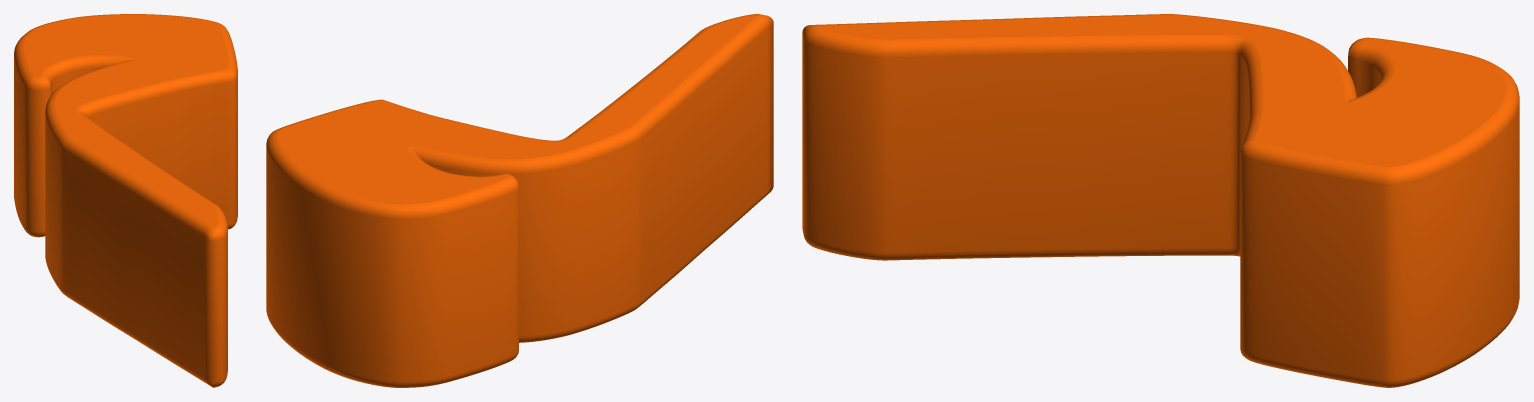
Rendered from 24 mim.fbx.
3 renders of one model, left to right at view 1: azimuth 30°, elevation 25°; view 2: azimuth 150°, elevation 25°; view 3: azimuth 270°, elevation 25°, orthographic. The views are drawn at different scales.
Parts seen in each view (by area): view 1: Text.122; view 2: Text.122; view 3: Text.122.
Part boxes in pixels (<box>): Text.122: <box>14,14,237,387</box>; Text.122: <box>266,14,773,387</box>; Text.122: <box>802,14,1519,387</box>.
Size of the model in its own units: 28.76 by 18 by 53.31.
